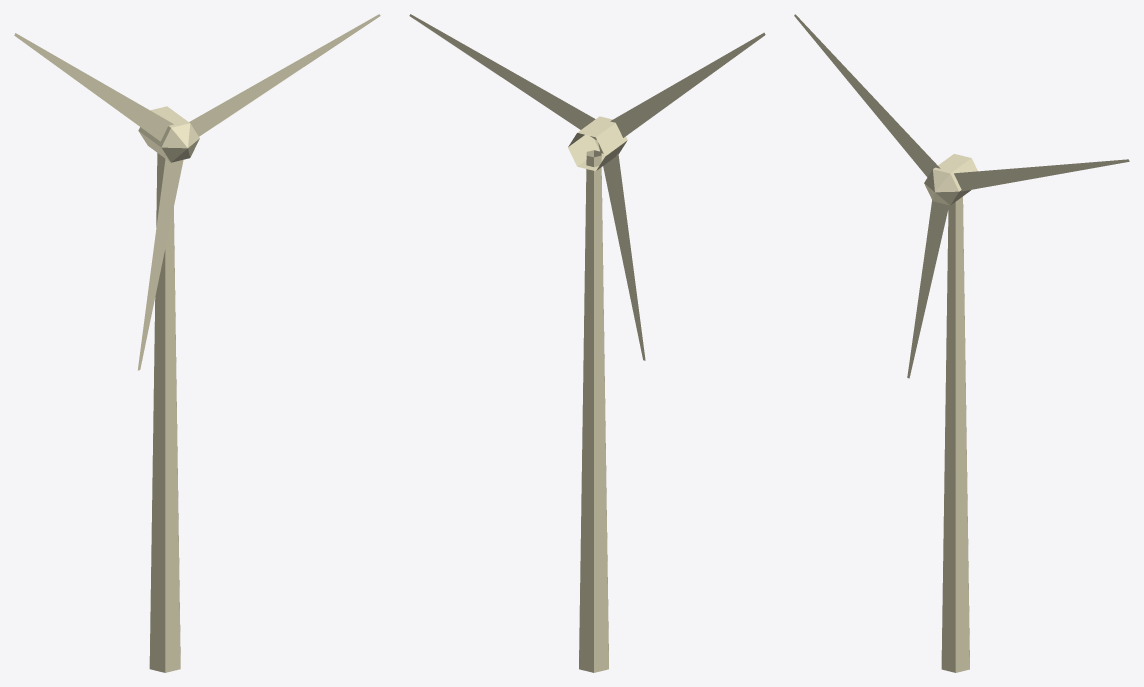
File: windmill_0_mdl.fbx
3 renders of one model, left to right at view 1: azimuth 30°, elevation 25°; view 2: azimuth 150°, elevation 25°; view 3: azimuth 330°, elevation 25°, orthographic. The views are drawn at different scales.
Visible parts, largest first — view 1: windmill_tower_geo, propeller_geo; view 2: windmill_tower_geo, propeller_geo; view 3: windmill_tower_geo, propeller_geo.
Part boxes in pixels (<box>): windmill_tower_geo: <box>138,106,199,672</box>; propeller_geo: <box>14,14,380,370</box>; windmill_tower_geo: <box>568,116,627,672</box>; propeller_geo: <box>409,14,765,360</box>; windmill_tower_geo: <box>924,154,977,672</box>; propeller_geo: <box>794,14,1129,378</box>.
Size of the model in its own units: 3588 by 6376 by 517.
